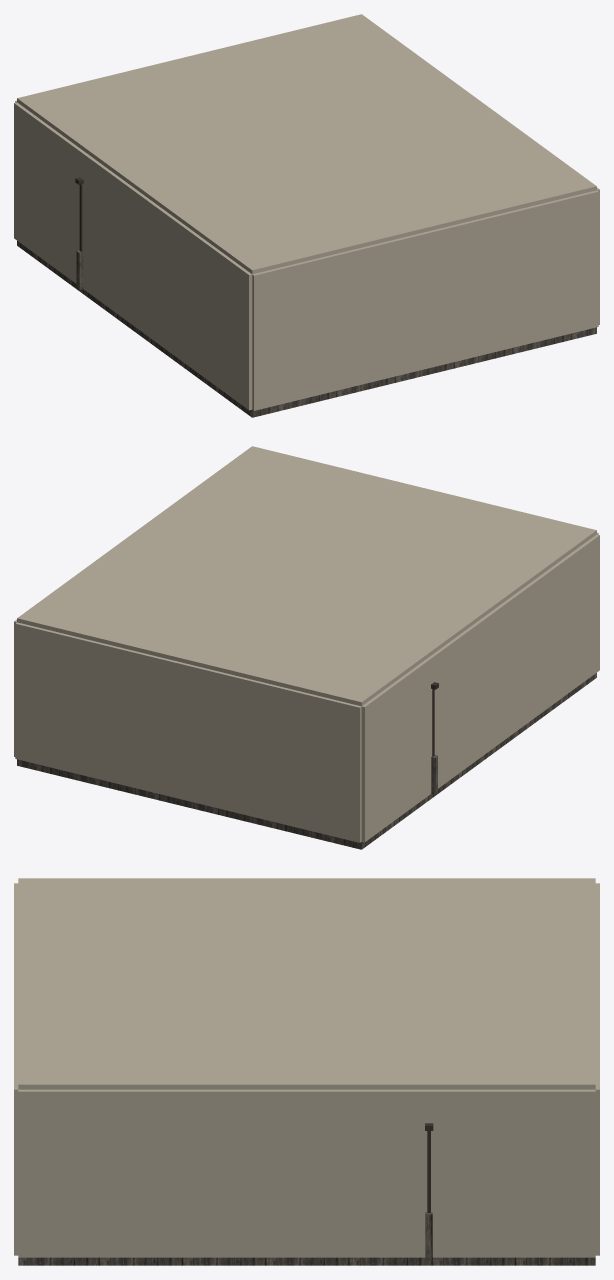
Rendered from mori-story-interior.glb.
The picture shows the model from 3 angles, top to bottom: view 1: azimuth 30°, elevation 25°; view 2: azimuth 150°, elevation 25°; view 3: azimuth 270°, elevation 25°; orthographic projection. The views are drawn at different scales.
Parts seen in each view (by area): view 1: Mori interior warm plaster, Mori weathered grey brown cedar.002; view 2: Mori interior warm plaster, Mori weathered grey brown cedar.002; view 3: Mori interior warm plaster, Mori weathered grey brown cedar.002.
Boxes of the visible parts, x1,y1,x2,y2 form: Mori interior warm plaster: (14, 14, 599, 410); Mori weathered grey brown cedar.002: (17, 241, 596, 417); Mori interior warm plaster: (14, 446, 599, 842); Mori weathered grey brown cedar.002: (17, 673, 596, 849); Mori interior warm plaster: (14, 878, 599, 1257); Mori weathered grey brown cedar.002: (18, 1212, 595, 1265).
Size of the model in its own units: 9.2 by 3.6 by 10.56.
Materials: 7 (1 with a texture image).
